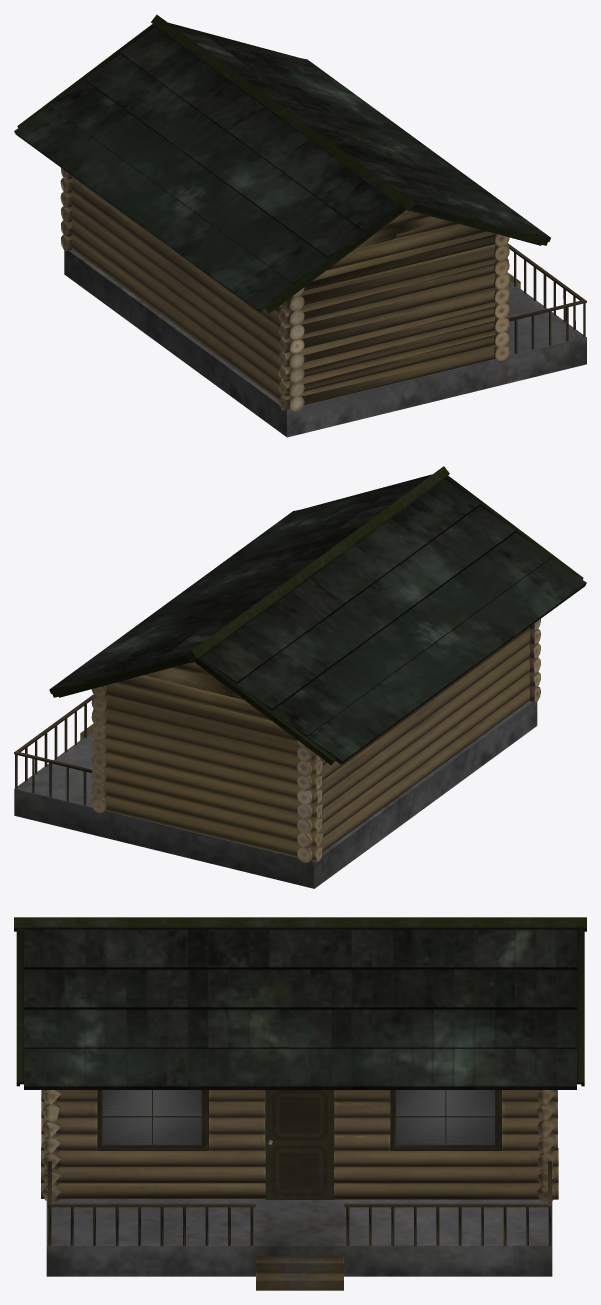
The model's file is h_log.glb.
3 views of the same model, one above another, from view 1: azimuth 30°, elevation 25°; view 2: azimuth 150°, elevation 25°; view 3: azimuth 270°, elevation 25° (orthographic). The views are drawn at different scales.
Parts seen in each view (by area): view 1: body|Tejas_Traseras, body|Lateral_Izq, body|Base, body|Pared_Trasera, body|Tejas_Delanteras, body|Sujecion_Lateral, body|Sujecion_Superior, body|Pared_Frontal, body|Palos_Barandilla, body|Lateral_Drch, body|Vigas_Barandilla; view 2: body|Tejas_Traseras, body|Lateral_Drch, body|Base, body|Pared_Trasera, body|Tejas_Delanteras, body|Sujecion_Lateral, body|Sujecion_Superior, body|Pared_Frontal, body|Palos_Barandilla, body|Lateral_Izq, body|Vigas_Barandilla; view 3: body|Tejas_Delanteras, body|Base, body|Pared_Frontal, body|Cristales, body|Puerta, body|Sujecion_Superior, body|Escaleras, body|Palos_Barandilla, body|Vigas_Barandilla, body|Sujecion_Lateral, body|Lateral_Izq, body|Lateral_Drch (+3 smaller).
Boxes of the visible parts, x1=… form: body|Tejas_Traseras: x1=14, y1=27, x2=399, y2=312; body|Lateral_Izq: x1=278, y1=210, x2=509, y2=410; body|Base: x1=64, y1=249, x2=586, y2=437; body|Pared_Trasera: x1=71, y1=175, x2=304, y2=411; body|Tejas_Delanteras: x1=174, y1=27, x2=550, y2=245; body|Sujecion_Lateral: x1=17, y1=22, x2=548, y2=313; body|Sujecion_Superior: x1=151, y1=14, x2=414, y2=211; body|Pared_Frontal: x1=494, y1=233, x2=509, y2=360; body|Palos_Barandilla: x1=514, y1=252, x2=585, y2=353; body|Lateral_Drch: x1=60, y1=168, x2=72, y2=251; body|Vigas_Barandilla: x1=507, y1=243, x2=586, y2=321; body|Tejas_Traseras: x1=201, y1=479, x2=586, y2=764; body|Lateral_Drch: x1=91, y1=662, x2=322, y2=861; body|Base: x1=14, y1=701, x2=537, y2=888; body|Pared_Trasera: x1=297, y1=627, x2=538, y2=862; body|Tejas_Delanteras: x1=49, y1=478, x2=426, y2=697; body|Sujecion_Lateral: x1=51, y1=474, x2=583, y2=765; body|Sujecion_Superior: x1=185, y1=466, x2=449, y2=663; body|Pared_Frontal: x1=91, y1=685, x2=106, y2=812; body|Palos_Barandilla: x1=15, y1=704, x2=86, y2=805; body|Lateral_Izq: x1=528, y1=619, x2=540, y2=702; body|Vigas_Barandilla: x1=14, y1=694, x2=93, y2=772; body|Tejas_Delanteras: x1=23, y1=929, x2=577, y2=1089; body|Base: x1=46, y1=1090, x2=552, y2=1276; body|Pared_Frontal: x1=41, y1=1090, x2=558, y2=1199; body|Cristales: x1=102, y1=1090, x2=494, y2=1144; body|Puerta: x1=265, y1=1090, x2=334, y2=1199; body|Sujecion_Superior: x1=14, y1=917, x2=586, y2=931; body|Escaleras: x1=256, y1=1256, x2=343, y2=1290; body|Palos_Barandilla: x1=48, y1=1207, x2=551, y2=1245; body|Vigas_Barandilla: x1=47, y1=1161, x2=551, y2=1207; body|Sujecion_Lateral: x1=16, y1=928, x2=584, y2=1086; body|Lateral_Izq: x1=43, y1=1090, x2=61, y2=1202; body|Lateral_Drch: x1=537, y1=1090, x2=556, y2=1202.
Size of the model in its own units: 10.23 by 5.96 by 12.24.
21 materials, 21 textured.
